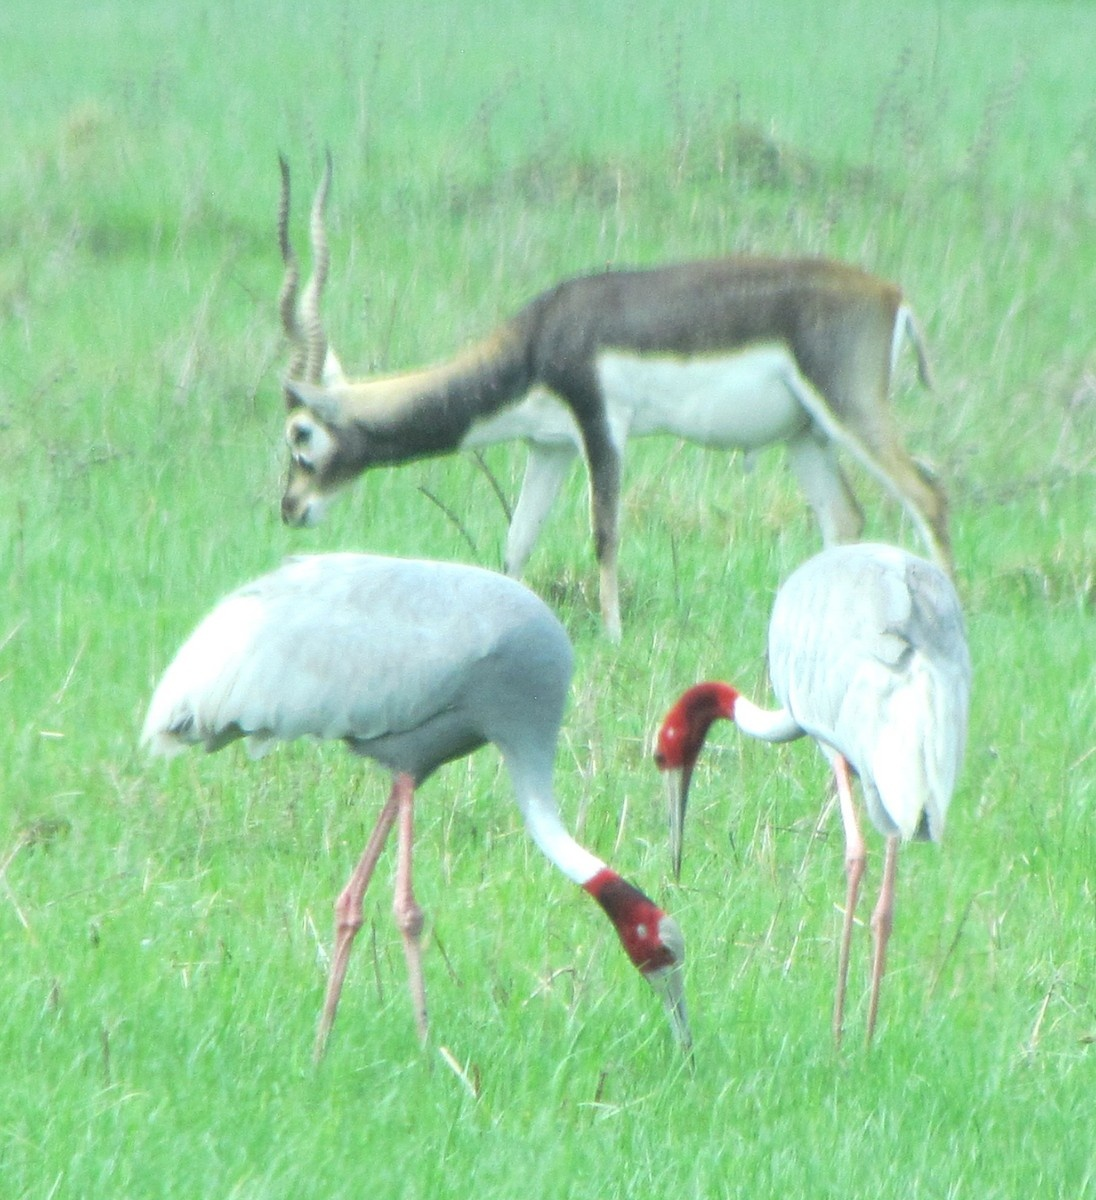crane: (166, 551, 713, 1079), (642, 578, 960, 968)
